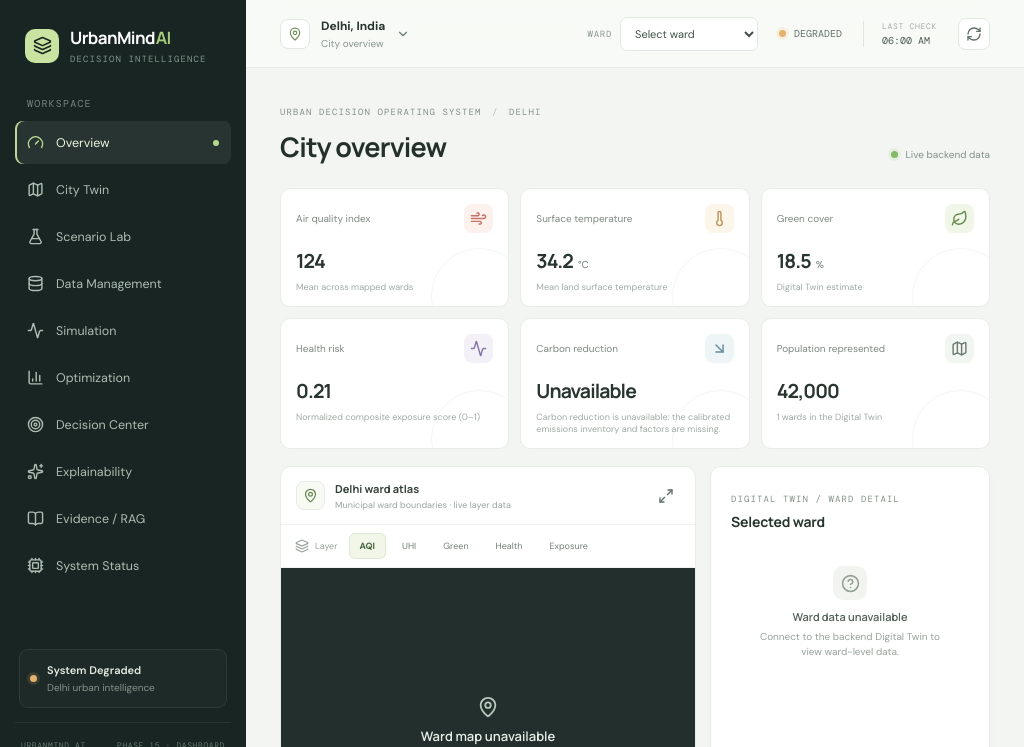
Scenario: UrbanMind dashboard › generates and displays backend scenarios from Scenario Lab
Click the link "Scenario Lab": (79, 236) [27,228,131,245]
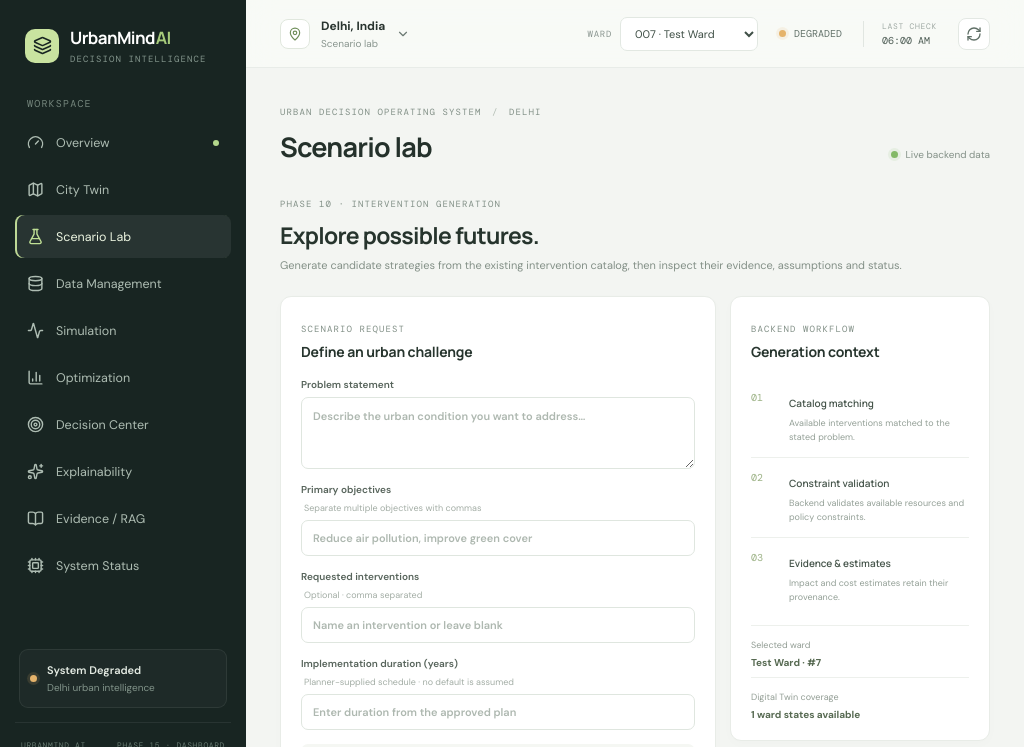
In the text box labelled "Problem statement": (498, 433) [301,397,695,469], type "Reduce heat exposure"
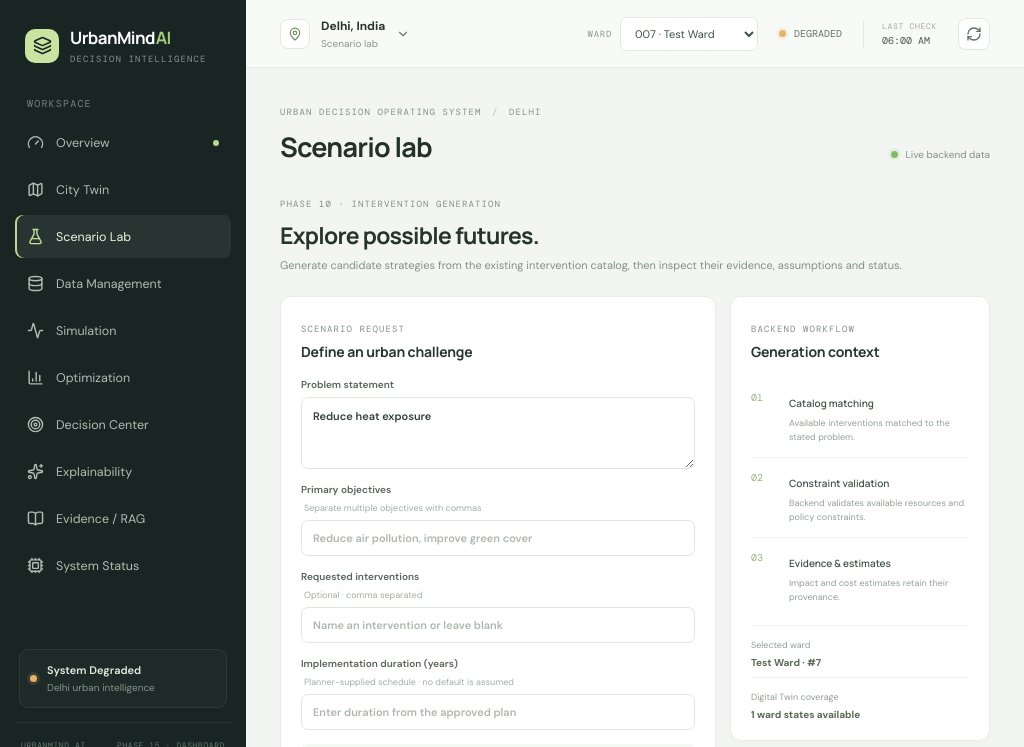
In the number field labelled "Implementation duration (years)": (498, 712) [301,694,695,730], type "2.5"
(page scrolled)
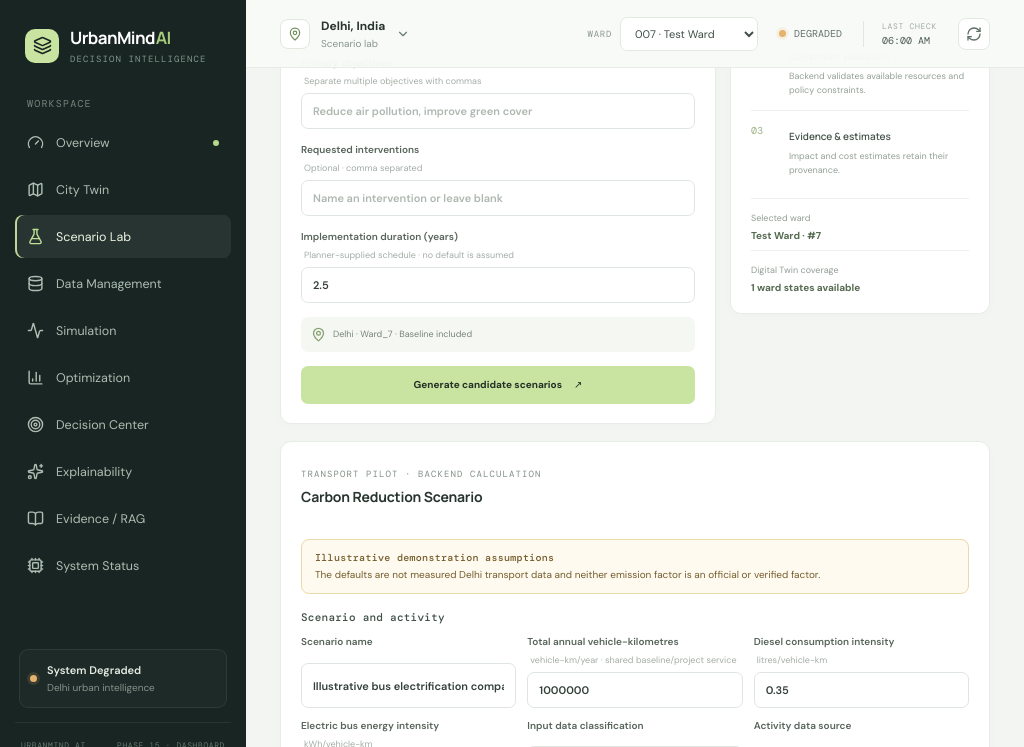
Click the button "Generate candidate scenarios ↗": (498, 385) [301,366,695,404]
(page scrolled)
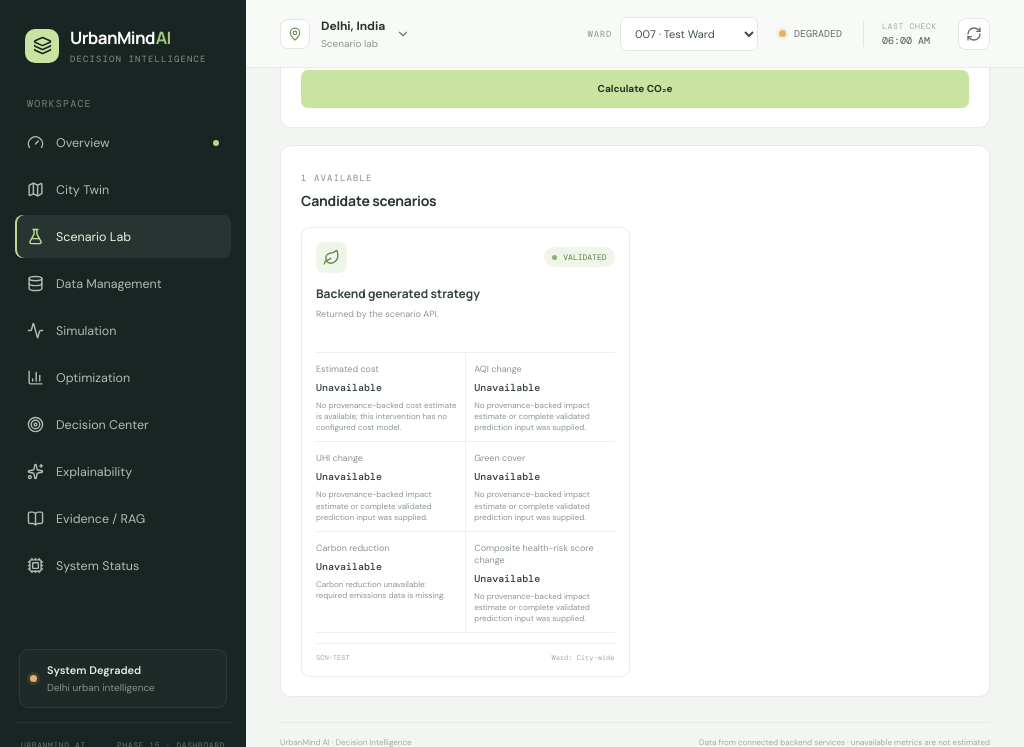
Check: the heading "Backend generated strategy" is shown, box [316,285,480,302]
Check: the text "Carbon reduction unavailable: required emissions data is missing." is shown, box [316,579,457,601]
Check: the text "no provenance-backed impact estimate or complete validated prediction input was supplied" below "AQI change" is shown, box [474,400,590,432]
